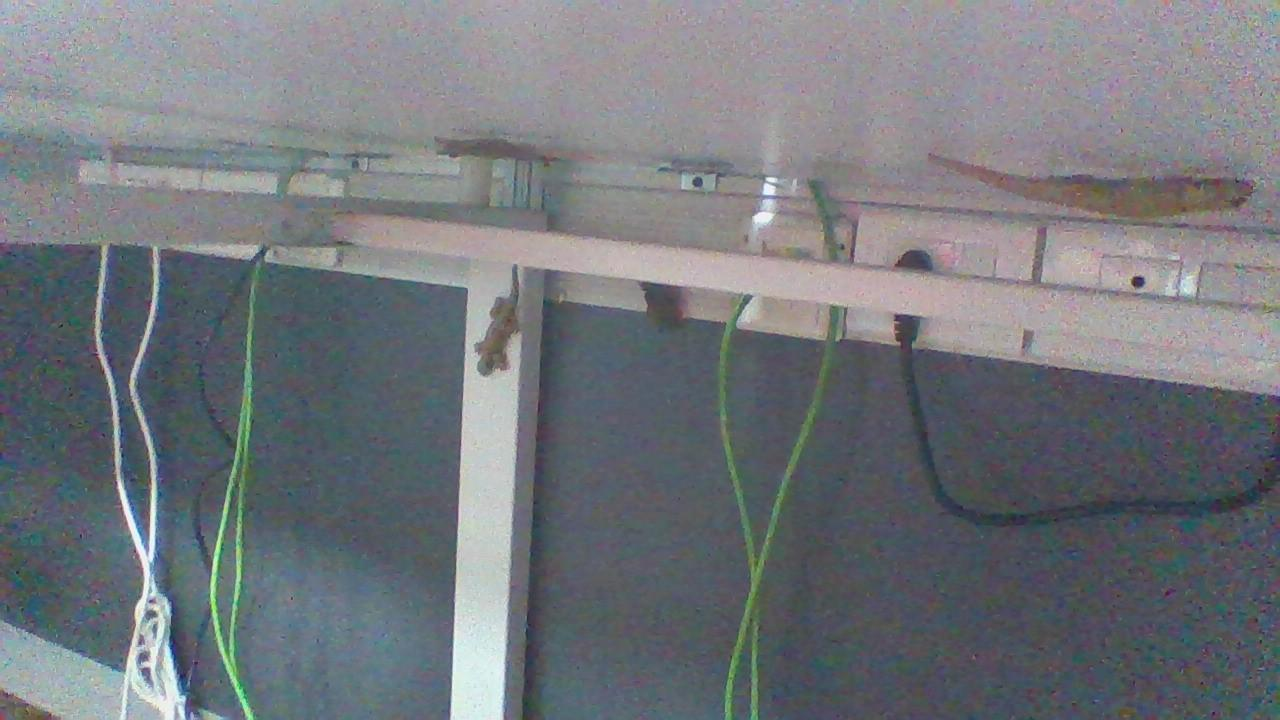cockroach: (393, 133, 581, 172), (626, 272, 689, 338)
lizard: (919, 140, 1260, 226), (469, 263, 521, 382)
